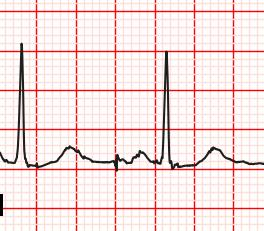LVH: (37, 143, 94, 169), (191, 143, 235, 171)
